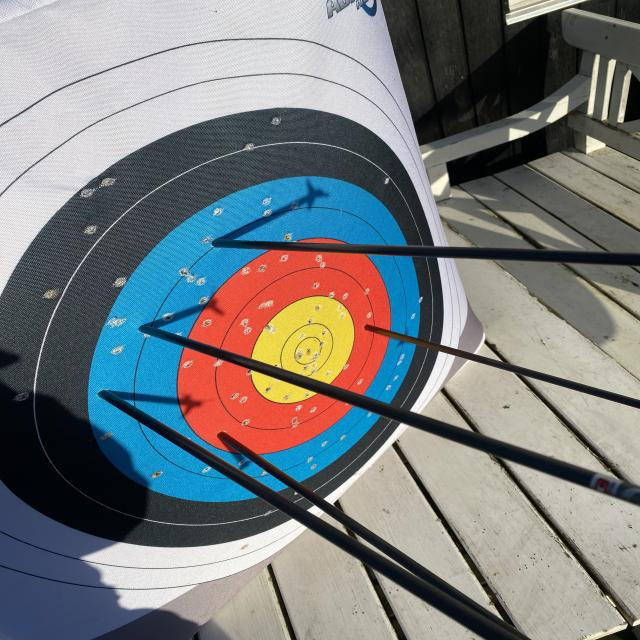Arrow_Blue: (194, 228, 257, 257), (128, 313, 182, 339), (94, 380, 131, 414)
Arrow_Red: (201, 419, 247, 450), (358, 312, 396, 348)
